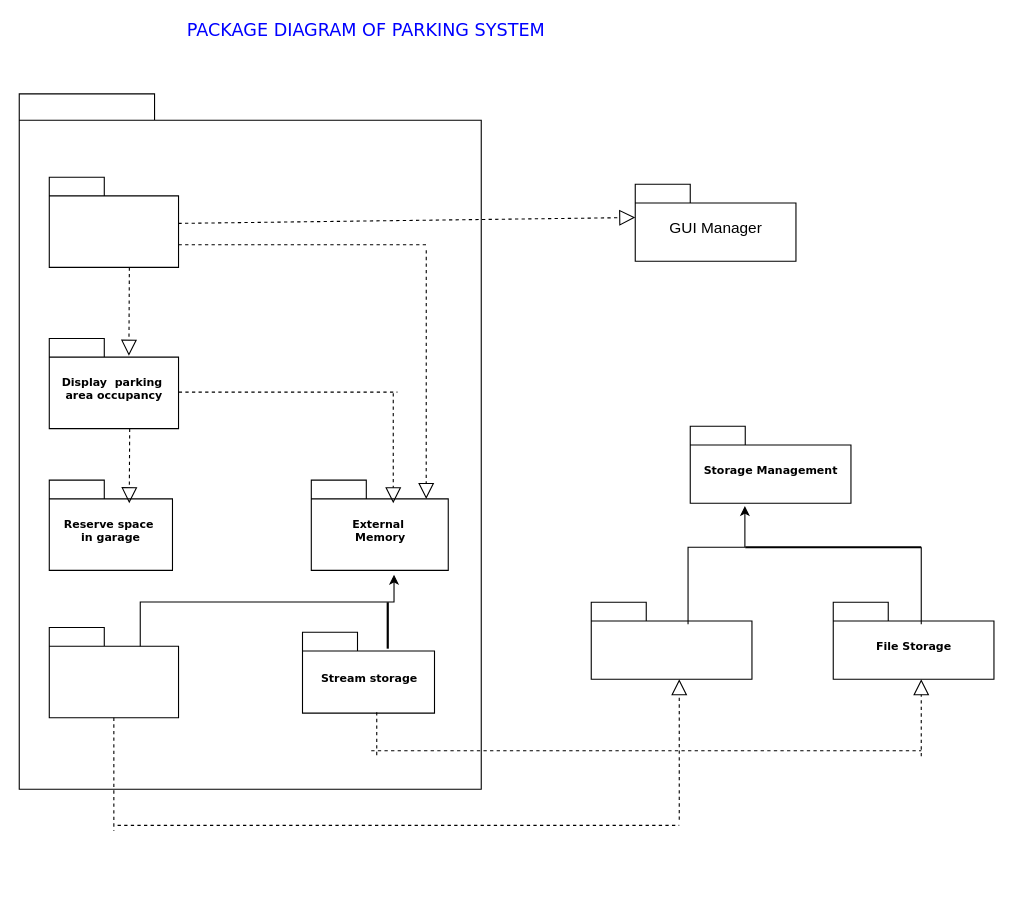
Some shapes in this 1014 by 912 pixel diagram are drawn without their labels. The centre of each missing label's shape, as x and y in pixels:
Random Storage: point (113, 672)
Repository: point (671, 640)
UI: point (113, 221)
